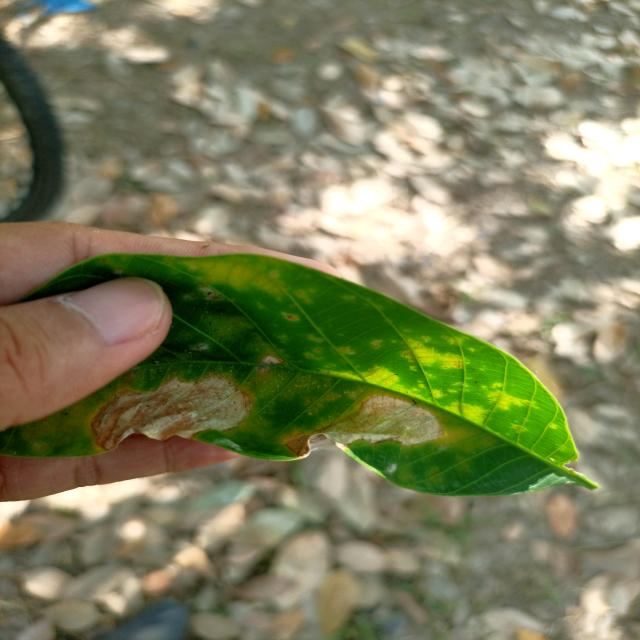Leaf-Blight: (90, 374, 251, 452), (286, 395, 442, 458)
